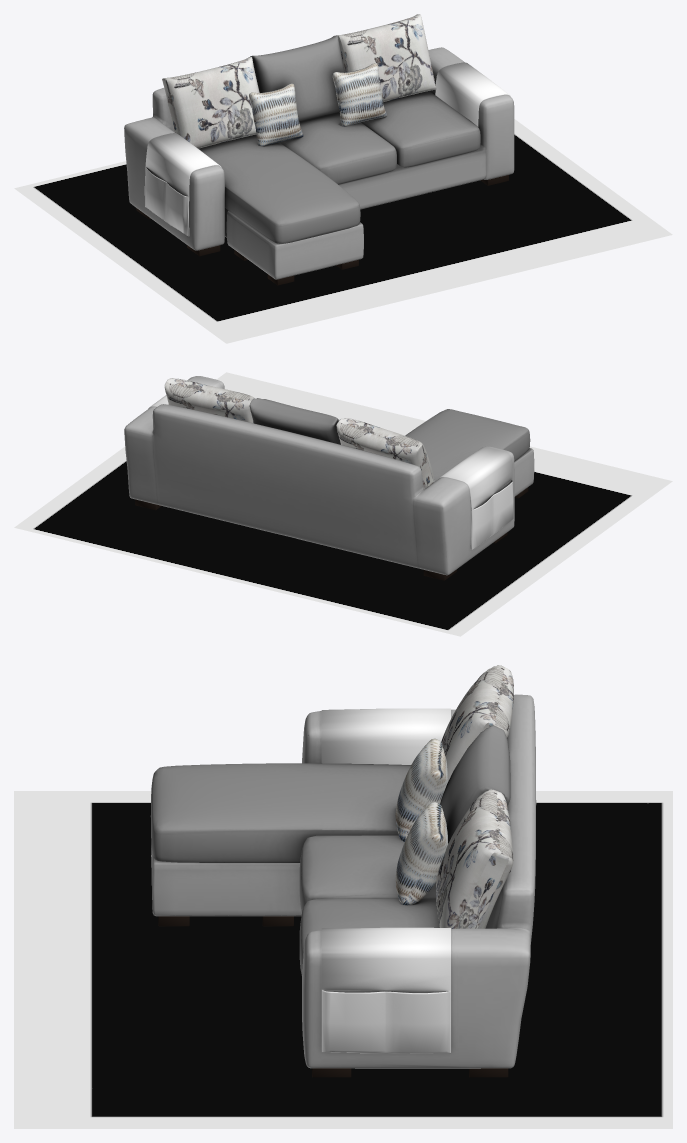
File: AJia_shafa_5561759.obj
3 views of the same model, one above another, from view 1: azimuth 30°, elevation 25°; view 2: azimuth 150°, elevation 25°; view 3: azimuth 270°, elevation 25° (orthographic). The views are drawn at different scales.
Visible parts, largest first — view 1: AJia_shafa_5561759, AJia_shafa_5561759_shadow; view 2: AJia_shafa_5561759, AJia_shafa_5561759_shadow; view 3: AJia_shafa_5561759_shadow, AJia_shafa_5561759.
Boxes of the visible parts, x1,y1,x2,y2 form: AJia_shafa_5561759: (124, 14, 514, 285); AJia_shafa_5561759_shadow: (14, 119, 672, 343); AJia_shafa_5561759: (124, 376, 534, 580); AJia_shafa_5561759_shadow: (14, 372, 672, 636); AJia_shafa_5561759_shadow: (14, 791, 672, 1128); AJia_shafa_5561759: (150, 665, 536, 1077).
Size of the model in its own units: 3.07 by 0.8616 by 2.53.
6 materials, 6 textured.
